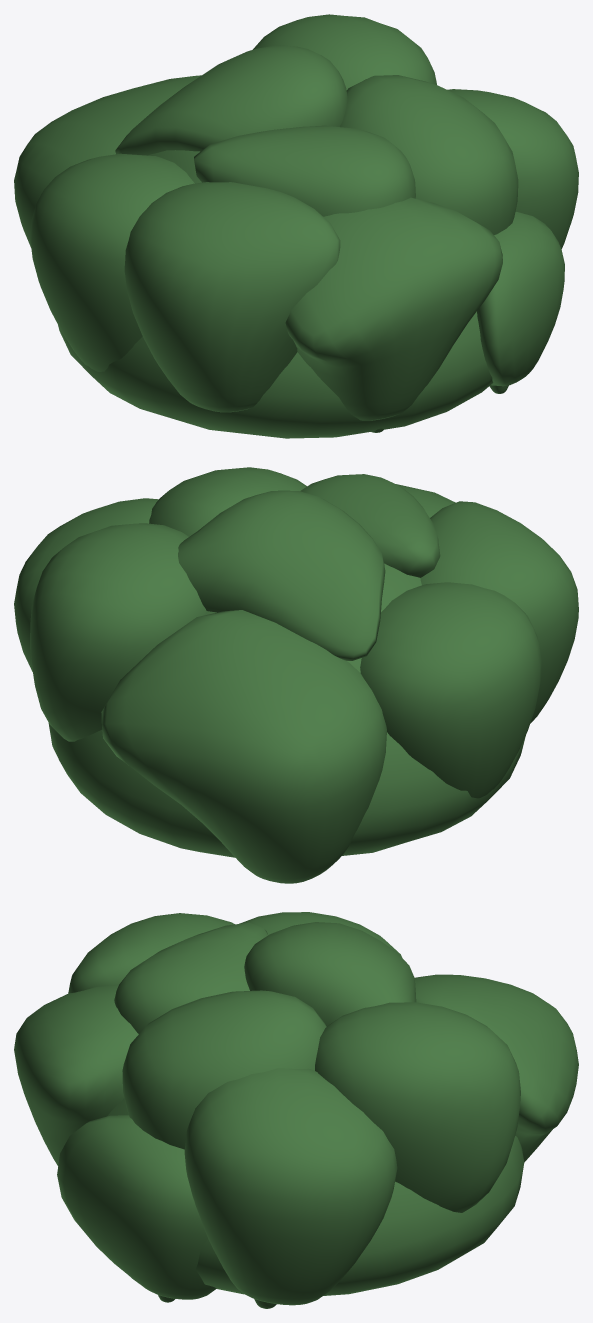
File: Bush_thing_1.fbx
3 renders of one model, top to bottom at view 1: azimuth 30°, elevation 25°; view 2: azimuth 150°, elevation 25°; view 3: azimuth 270°, elevation 25°, orthographic. The views are drawn at different scales.
Parts seen in each view (by area): view 1: pCube21; view 2: pCube21; view 3: pCube21.
Part boxes in pixels (left/top/right/bottom): pCube21: left=14, top=14, right=578, bottom=438; pCube21: left=14, top=467, right=578, bottom=883; pCube21: left=14, top=912, right=578, bottom=1308.
Size of the model in its own units: 732 by 443 by 731.
